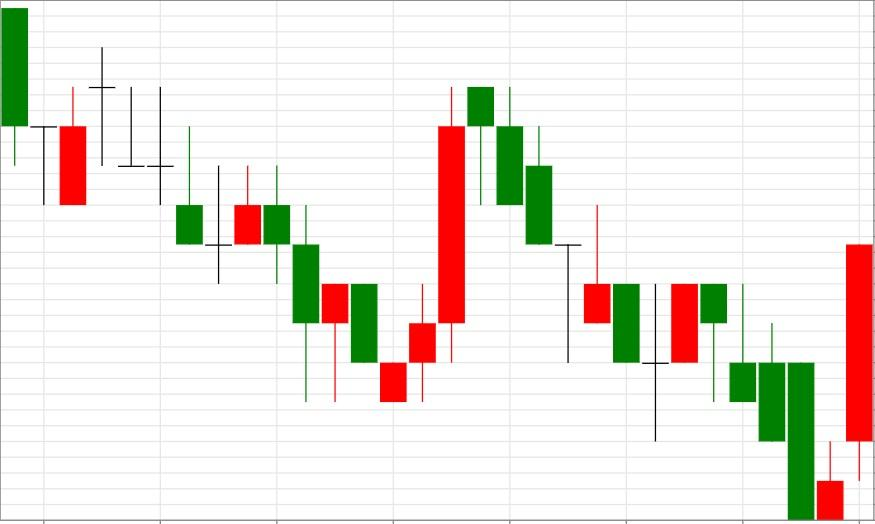morning_star_rise: (466, 86, 700, 441)
three_white_soldiers_rise: (234, 86, 466, 402)
